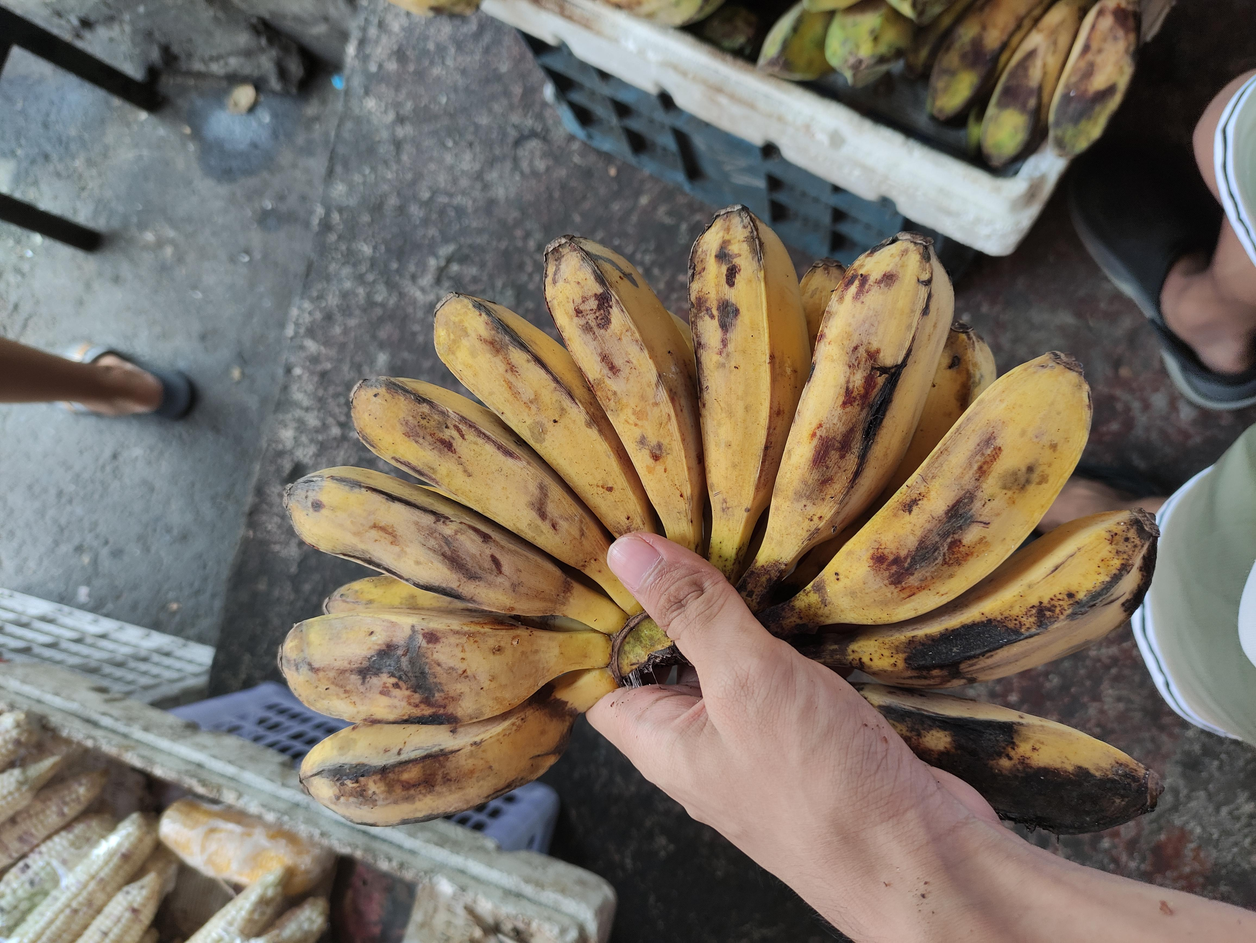ripe: (280, 207, 1161, 832)
